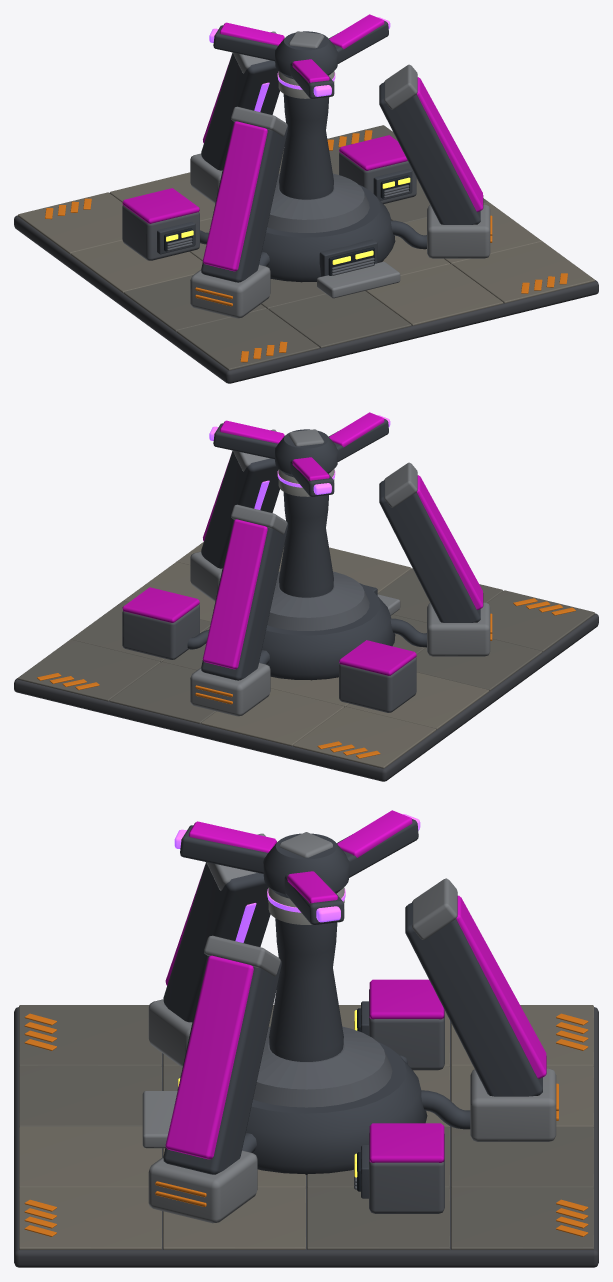
The model's file is stealth-generator.glb.
3 renders of one model, top to bottom at view 1: azimuth 30°, elevation 25°; view 2: azimuth 150°, elevation 25°; view 3: azimuth 270°, elevation 25°, orthographic. The views are drawn at different scales.
Parts seen in each view (by area): view 1: Stealth-Generator.001, Assembly; view 2: Stealth-Generator.001, Assembly; view 3: Stealth-Generator.001, Assembly.
Part boxes in pixels (x1,y1,x2,y2): Stealth-Generator.001: (14,31,598,383); Assembly: (209,14,390,98); Stealth-Generator.001: (14,429,598,781); Assembly: (209,412,390,496); Stealth-Generator.001: (14,833,598,1267); Assembly: (174,810,420,924).
Size of the model in its own units: 3.94 by 2.26 by 3.94.
